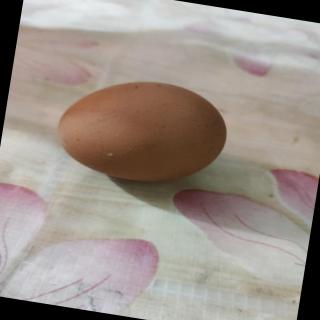Telur: (45, 63, 238, 202)
